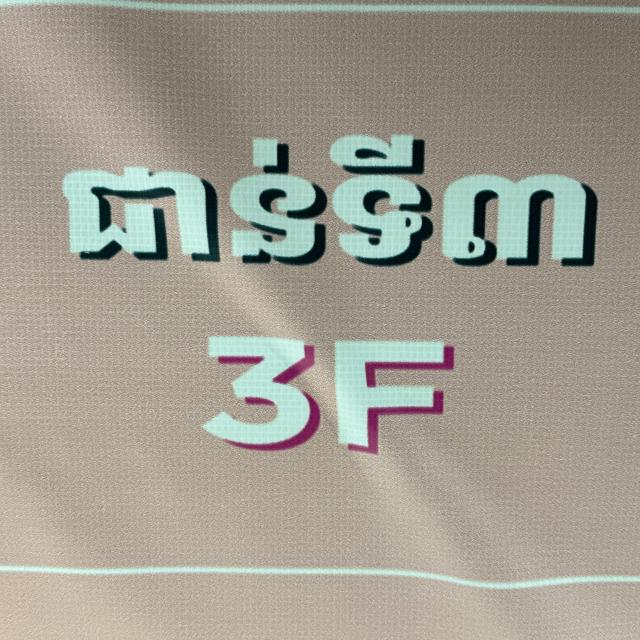702: (162, 322, 322, 456)
Yolov11_80vkh: (17, 124, 610, 300)
